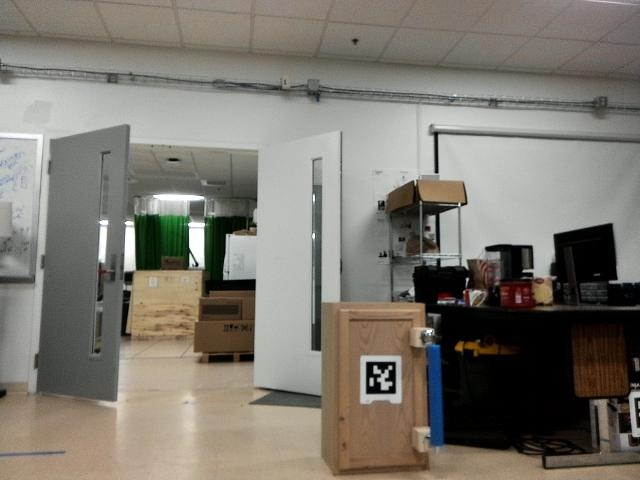noodle_handle: (421, 338, 447, 449)
